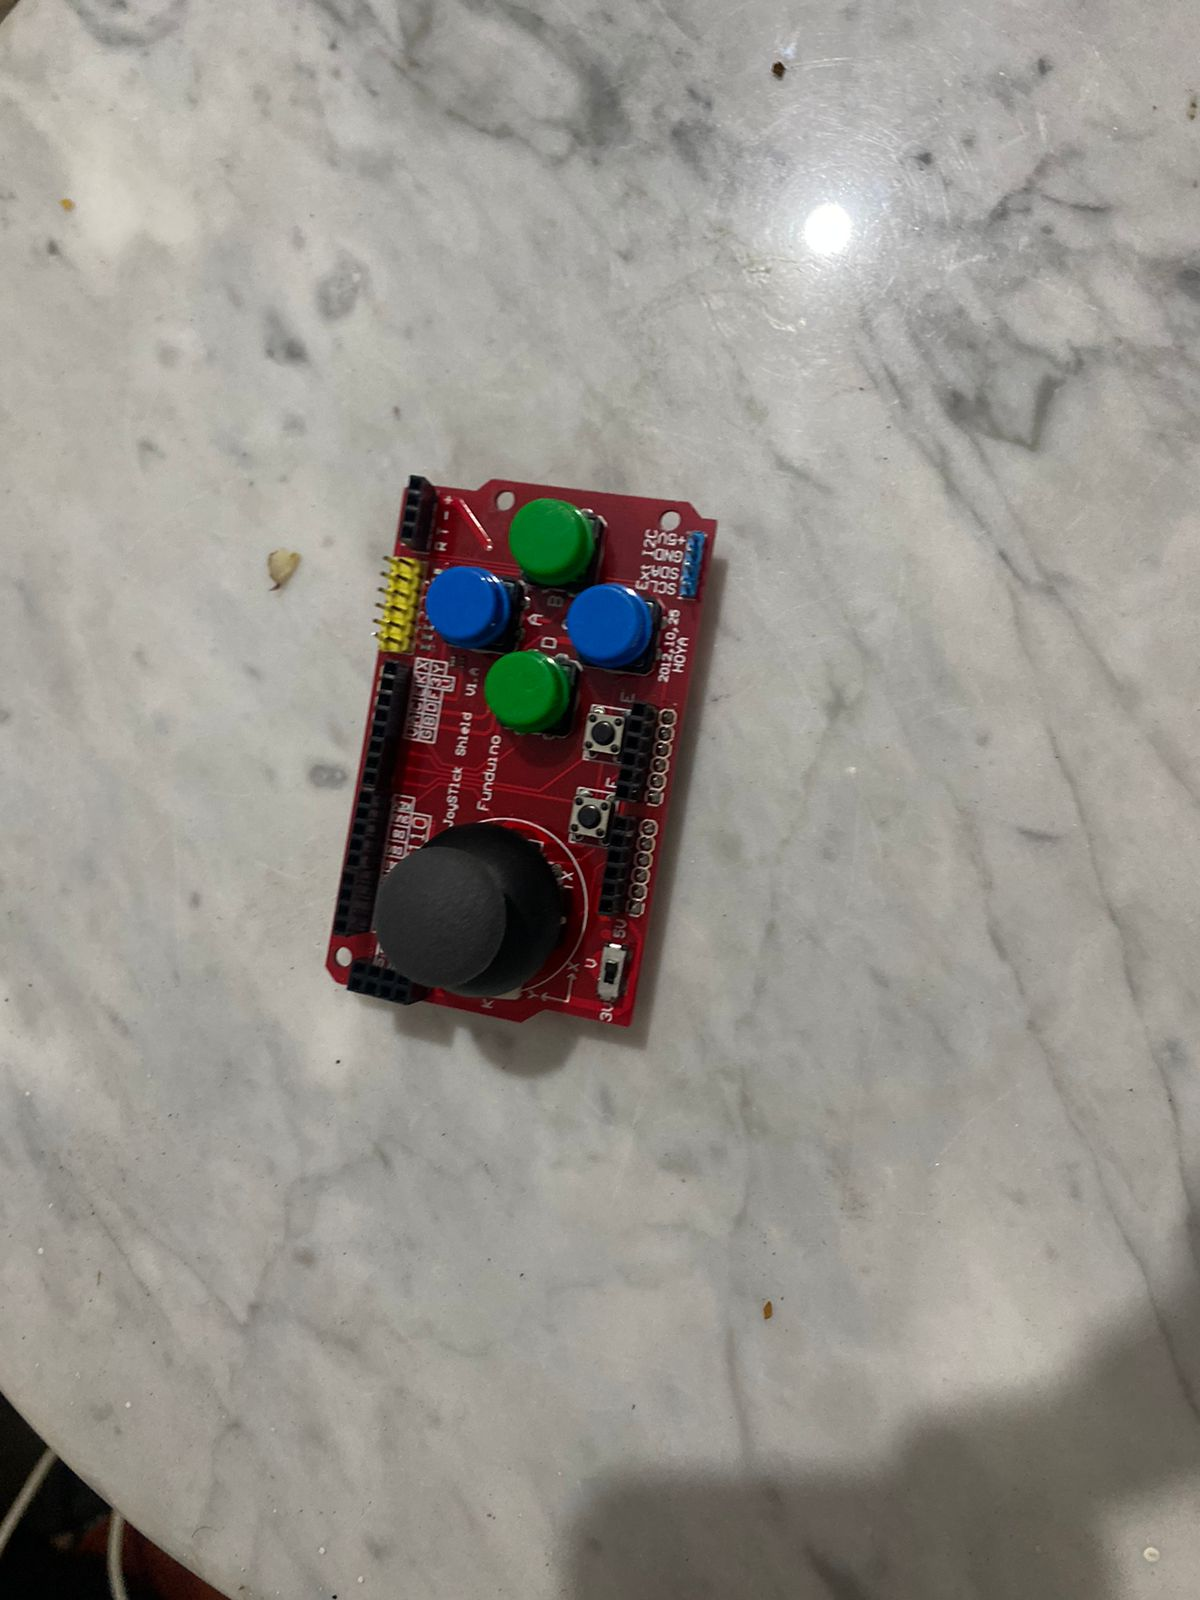Clavier-Joystick: (318, 445, 726, 1037)
